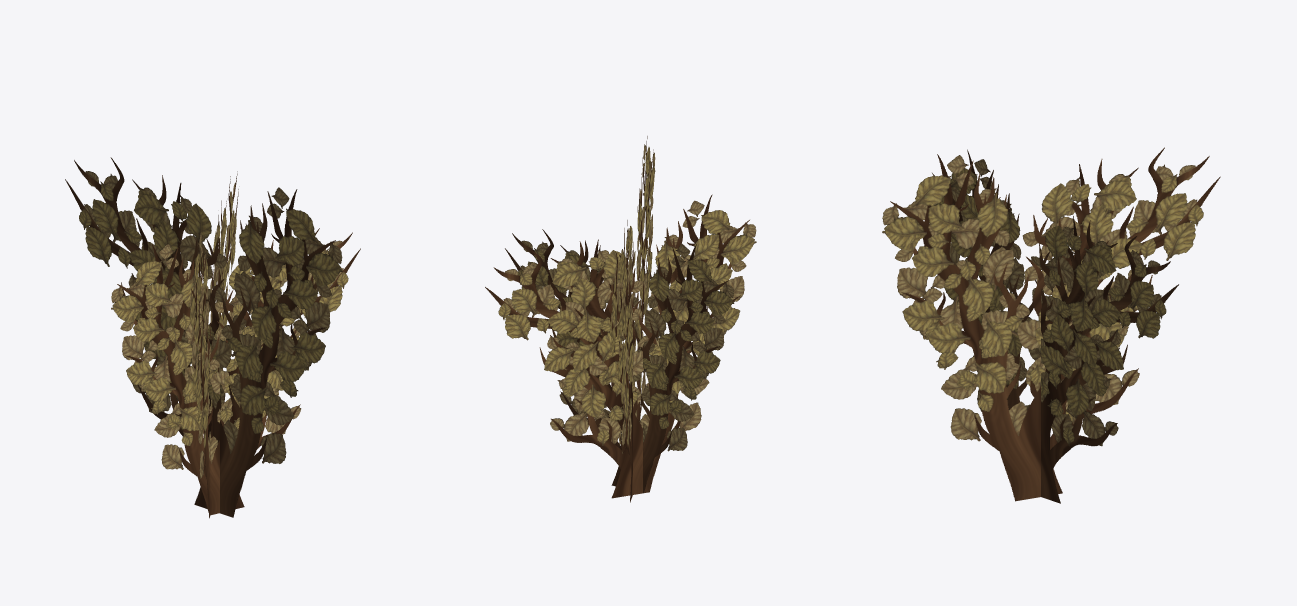
The model's file is Bush.fbx.
The picture shows the model from 3 angles, left to right: view 1: azimuth 30°, elevation 25°; view 2: azimuth 150°, elevation 25°; view 3: azimuth 270°, elevation 25°; orthographic projection. The views are drawn at different scales.
Visible parts, largest first — view 1: Plane.002, Plane, Plane.001; view 2: Plane.001, Plane, Plane.002; view 3: Plane.002, Plane.001.
Boxes of the visible parts, left/top/right/bottom form: Plane.002: left=65, top=157, right=342, bottom=517; Plane: left=111, top=228, right=360, bottom=515; Plane.001: left=189, top=171, right=238, bottom=518; Plane.001: left=485, top=194, right=756, bottom=498; Plane: left=505, top=229, right=734, bottom=493; Plane.002: left=607, top=136, right=655, bottom=502; Plane.002: left=882, top=147, right=1220, bottom=501; Plane.001: left=932, top=149, right=1178, bottom=503.
Size of the model in its own units: 163 by 200 by 186.
3 materials, 3 textured.
